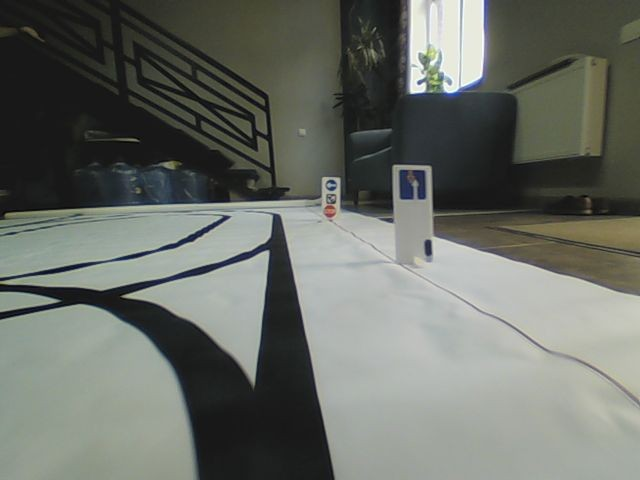priority_movement: (399, 169, 426, 199)
